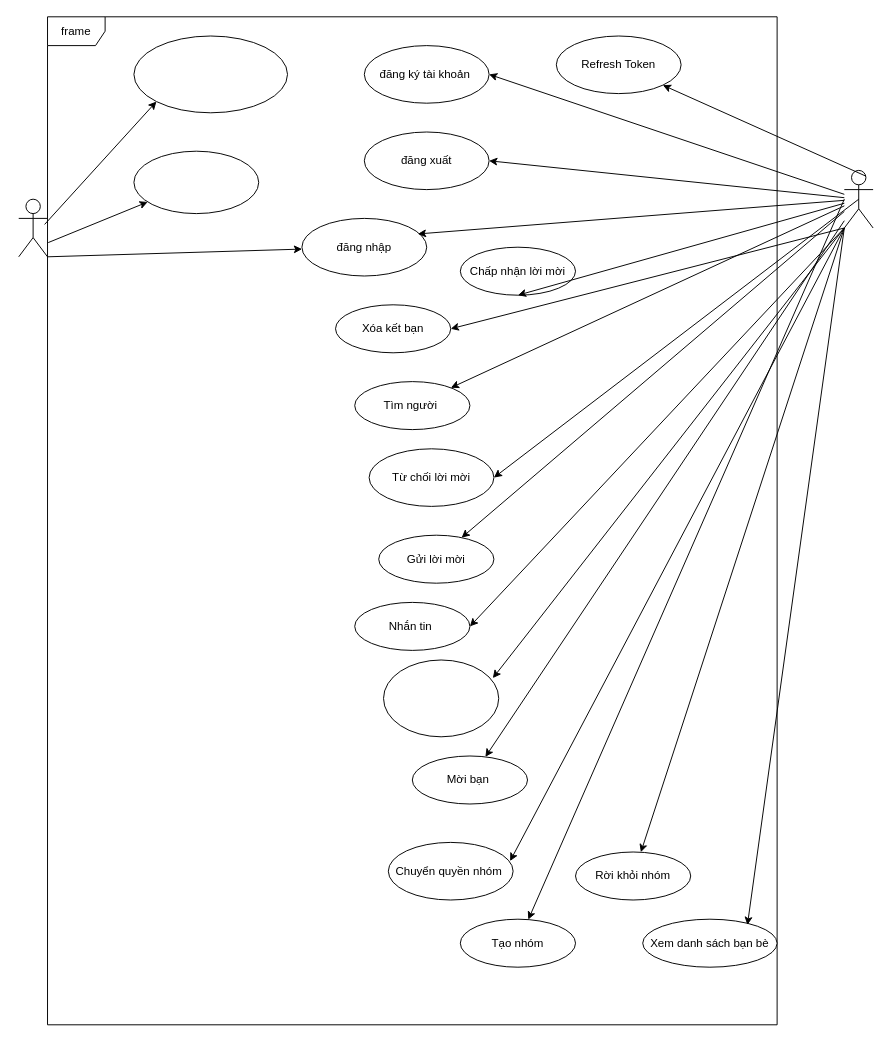
This 891x1042 diagram has some shape labels left out. The shapes that lost their labels are listed below. From the top down, each one's box as (x1, y1, x2, y2) in pixels, then its label:
(133, 35, 288, 113): Vô hiệu hóa use
(133, 150, 259, 214): Xem dashboard
(843, 169, 873, 228): Users
(18, 198, 48, 257): Admin
(383, 659, 499, 737): Mở hội thoại
